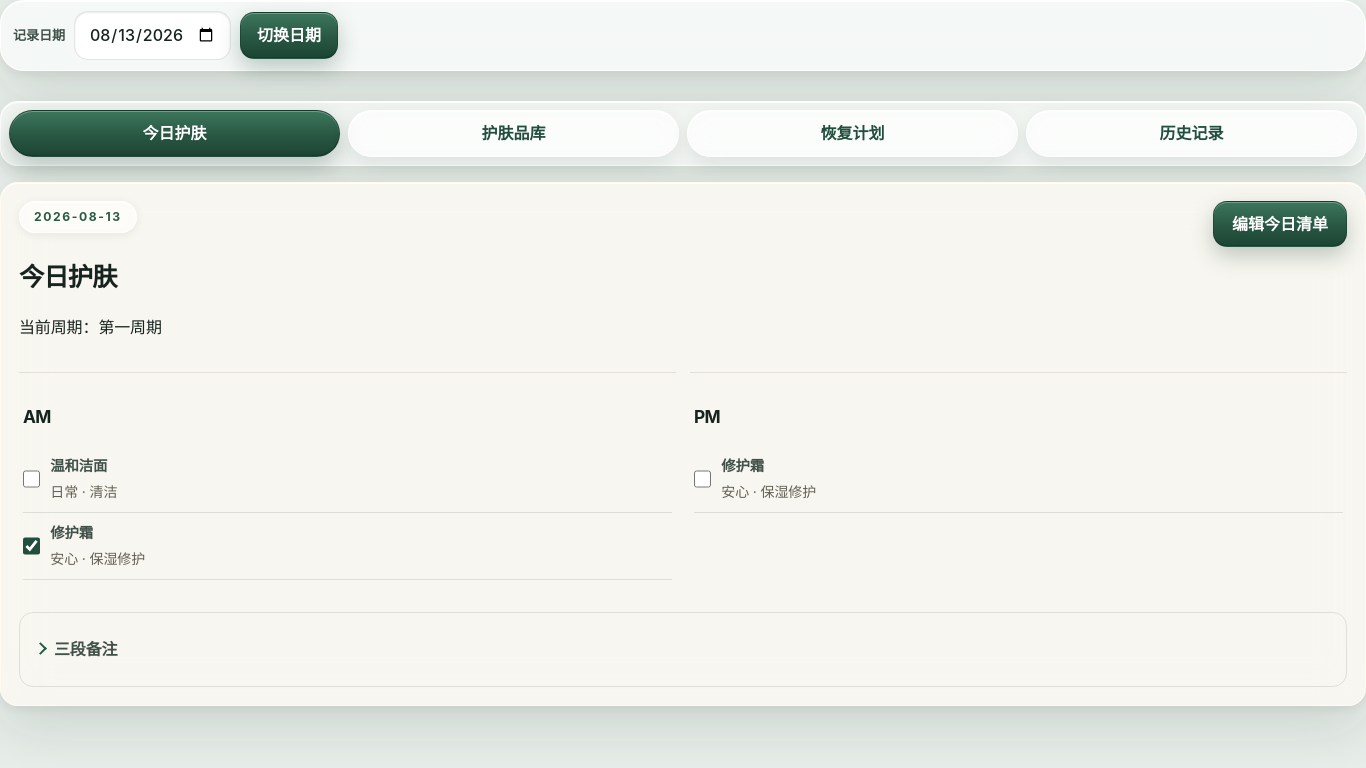
Test: ManualSkincareWorkspace › requires an explicit routine scope and summarizes used items before removing them
Step 1. Click the button "编辑今日清单" → (1280, 224), box [1213,201,1347,247]
(page scrolled)
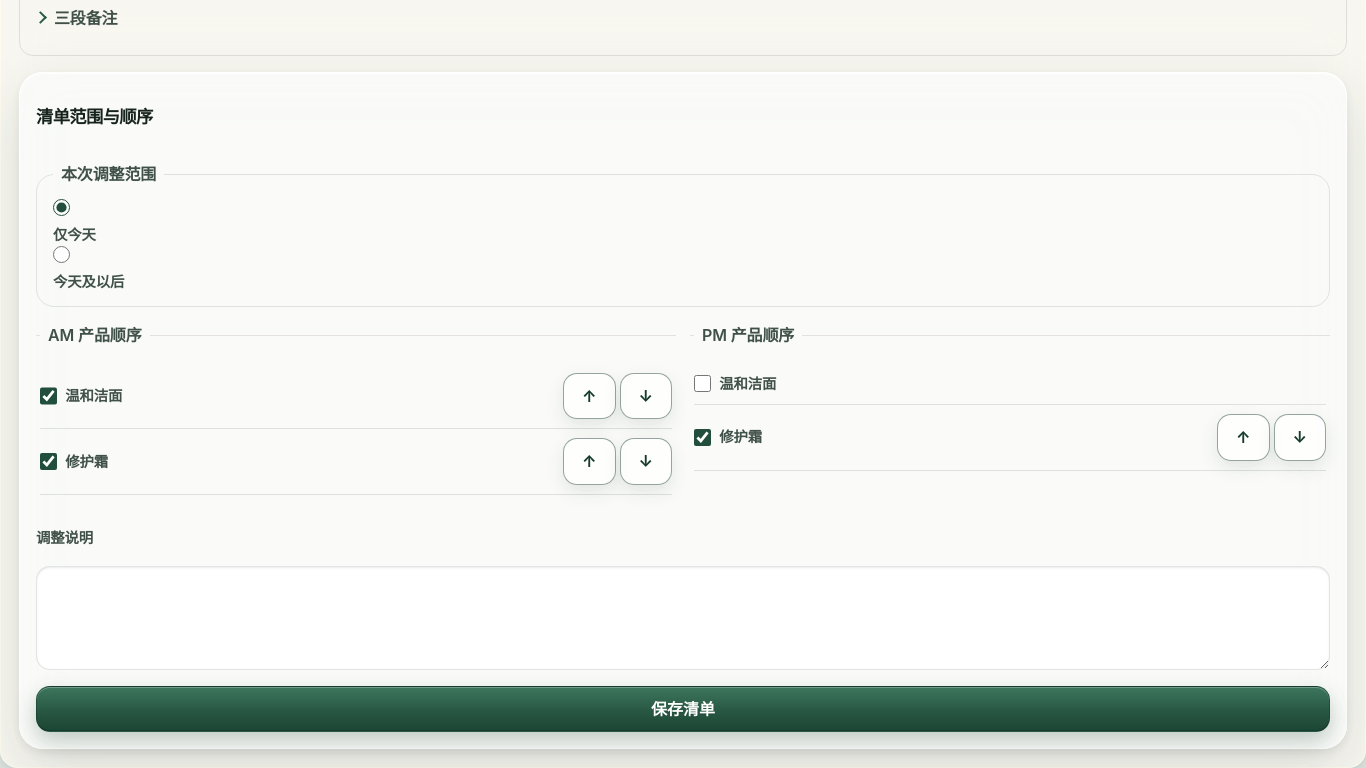
Expected: the radio button labelled "仅今天" is checked, [53,199,70,216]
Expected: the radio button labelled "今天及以后" is not checked, [53,246,70,264]
Step 2. Click the checkbox named "AM 修护霜保留在清单" → (49, 462), box [40,453,57,470]
(page scrolled)
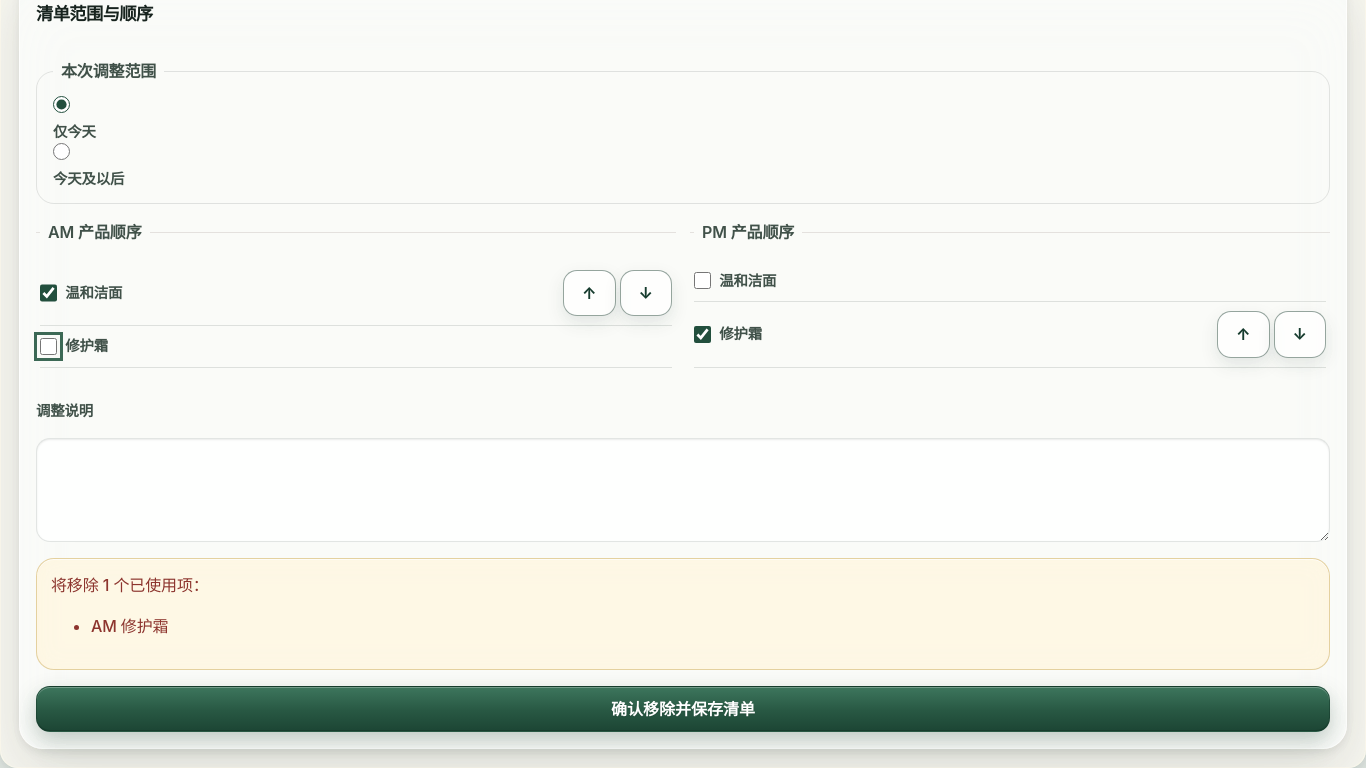
Expected: the text "将移除 1 个已使用项：" is shown, [51,575,209,595]
Expected: the list item "AM 修护霜" is shown, [91,616,168,636]
Expected: the button "确认移除并保存清单" is shown, [36,686,1330,732]
